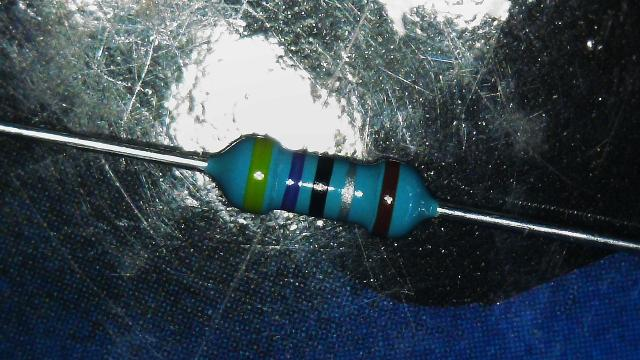black: (308, 156, 334, 218)
brown: (372, 161, 400, 237)
resistor: (200, 118, 442, 253)
silver: (338, 162, 358, 221)
violet: (281, 151, 305, 212)
yellow: (243, 136, 274, 212)
